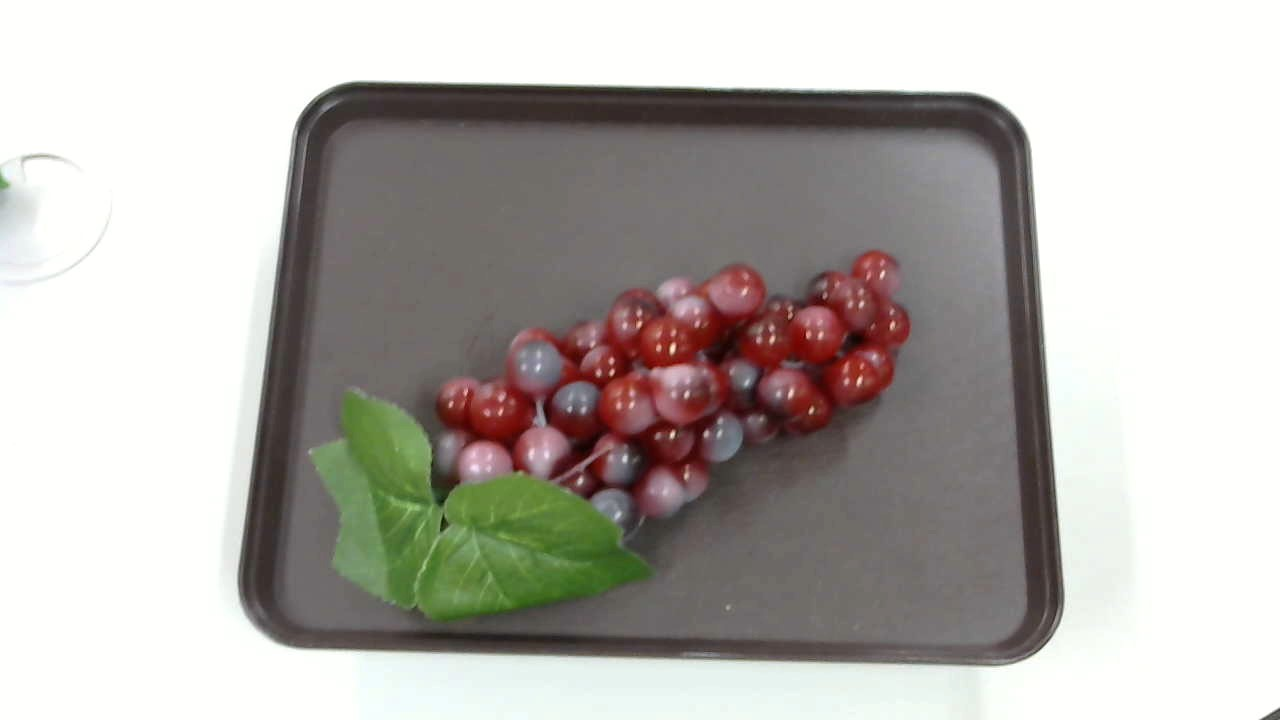grape: (291, 241, 922, 625)
